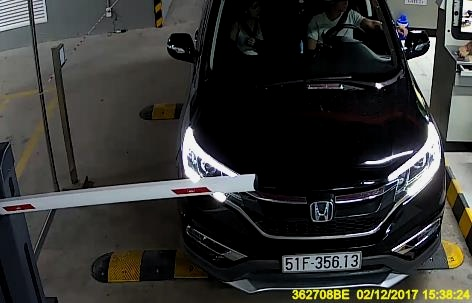plate: (278, 245, 367, 280)
